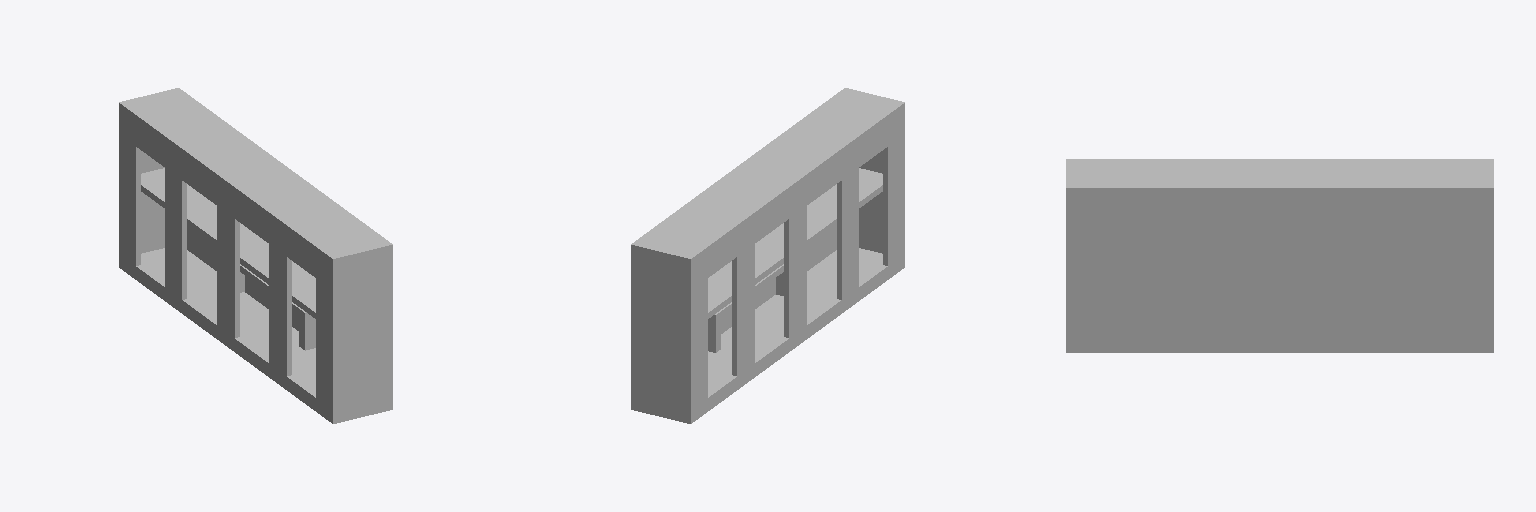
The model's file is temple.mtl.obj.
3 views of the same model, side by side, from view 1: azimuth 30°, elevation 25°; view 2: azimuth 150°, elevation 25°; view 3: azimuth 270°, elevation 25° (orthographic).
Parts seen in each view (by area): view 1: Cube.003_Cube.001; view 2: Cube.003_Cube.001; view 3: Cube.003_Cube.001.
Boxes of the visible parts, x1,y1,x2,y2 form: Cube.003_Cube.001: [119, 88, 392, 423]; Cube.003_Cube.001: [631, 88, 904, 423]; Cube.003_Cube.001: [1066, 159, 1493, 352].
Bounding box in the file's own units: 12 × 31.44 × 74.